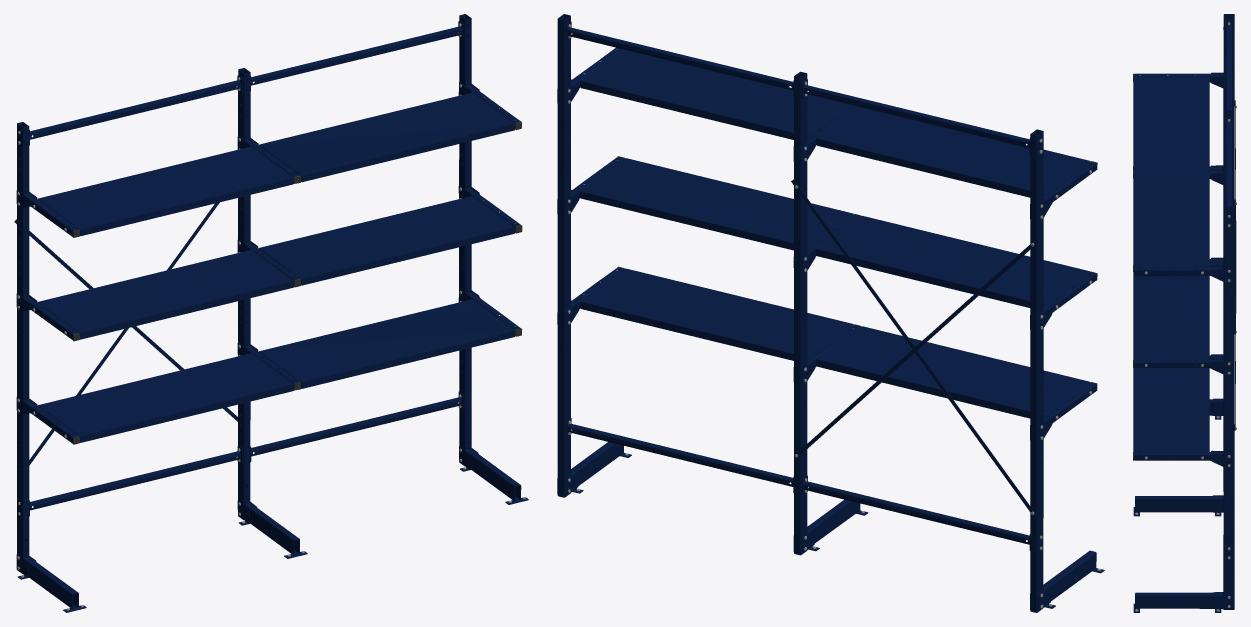
The model's file is SM_Rack_F04_01.glb.
3 renders of one model, left to right at view 1: azimuth 30°, elevation 25°; view 2: azimuth 150°, elevation 25°; view 3: azimuth 270°, elevation 25°, orthographic. The views are drawn at different scales.
Parts seen in each view (by area): view 1: Metal_Painted_Blue_B_Rack_F_0; view 2: Metal_Painted_Blue_B_Rack_F_0; view 3: Metal_Painted_Blue_B_Rack_F_0, Metal_Glossy_A_Rack_F_0.
Part boxes in pixels (x1=…): Metal_Painted_Blue_B_Rack_F_0: x1=14, y1=14, x2=528, y2=612; Metal_Painted_Blue_B_Rack_F_0: x1=557, y1=14, x2=1104, y2=612; Metal_Painted_Blue_B_Rack_F_0: x1=1133, y1=14, x2=1236, y2=612; Metal_Glossy_A_Rack_F_0: x1=1135, y1=22, x2=1236, y2=611.
Bounding box in the file's own units: 2.11 × 1.95 × 0.4591.
3 materials, 3 textured.
